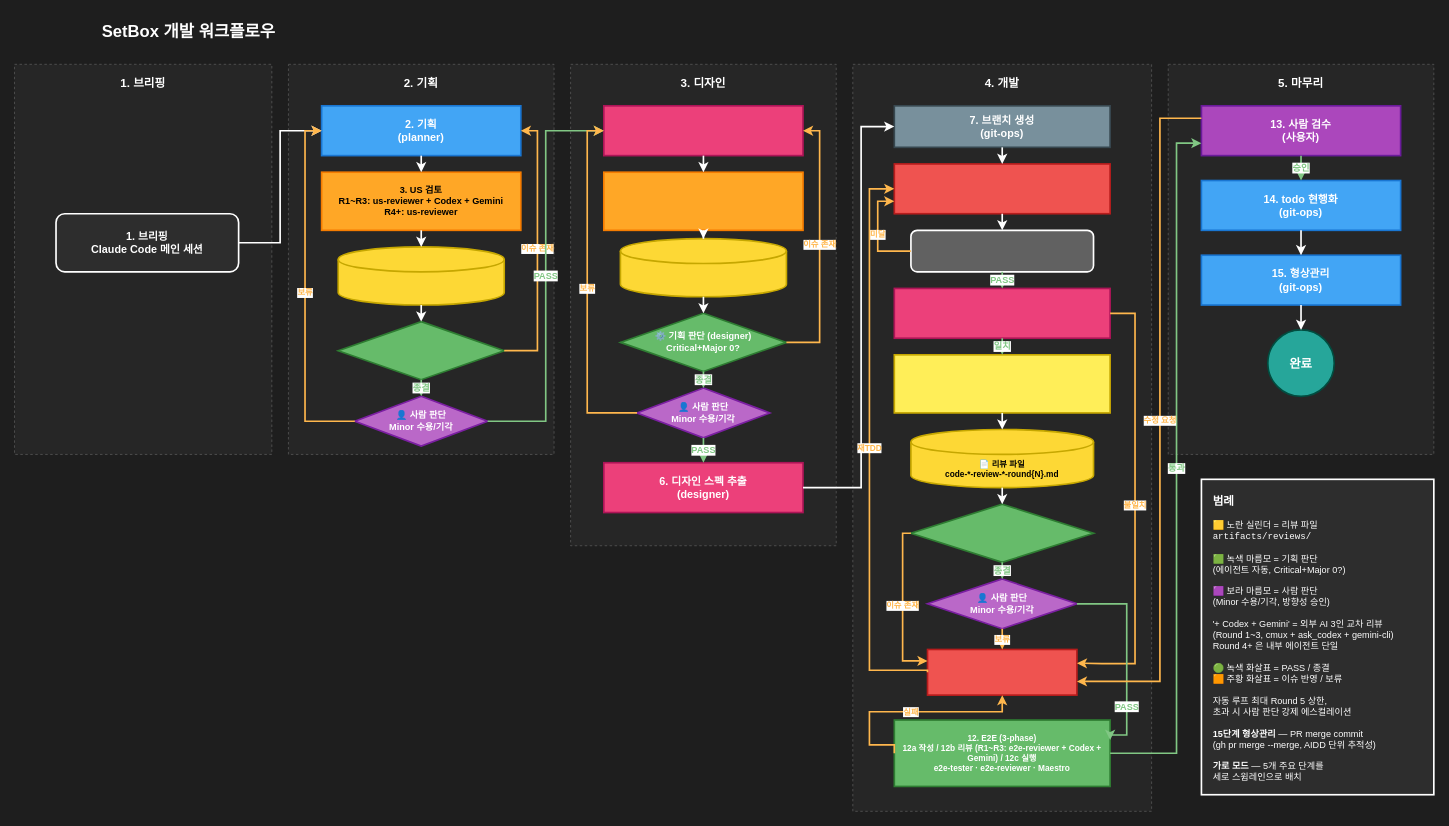
This 1449x826 diagram has some shape labels left out. The centre of each missing label's shape, as x and y in pixels:
"10. 코드 리뷰 R1~R3: code-reviewer + Codex + Gemini R4+: code-reviewer" goes at point (1002, 383).
"11. 수정 (expo-dev)" goes at point (1001, 672).
"4. 디자인 (designer, Pencil)" goes at point (703, 130).
"5. 디자인 검토 R1~R3: design-reviewer + Codex + Gemini R4+: design-reviewer" goes at point (703, 201).
"8. TDD + 커밋 (expo-dev)" goes at point (1002, 188).
"9. 디자인 대조 (design-reviewer)" goes at point (1002, 313).
"⚙️ 기획 판단 (code-reviewer) Critical+Major 0?" goes at point (1002, 533).
"⚙️ 기획 판단 (planner) Critical+Major 0?" goes at point (421, 350).
"커버리지 감사 (coverage-auditor)" goes at point (1002, 250).
"📄 리뷰 파일 design-*-review-*-round{N}.md" goes at point (703, 267).
"📄 리뷰 파일 us-*-review-*-round{N}.md" goes at point (421, 275).
